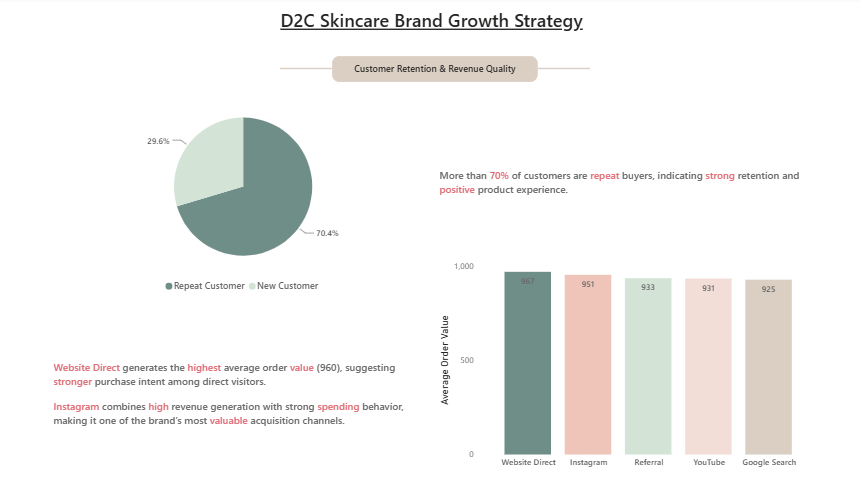

The page's visual inventory and layout, read from the dashboard file:
{"tool":"powerbi","page":{"name":"Customer Loyalty & Spending  ","canvas":[1280,720],"ordinal":2},"visuals":[{"type":"textbox","box":[408,10.2,463.9,51.2],"z":0},{"type":"textbox","box":[488.8,86.3,301.5,38],"z":1000},{"type":"shape","box":[412.7,52.7,76.1,103.9],"z":2000},{"type":"shape","box":[790.2,52.7,76.1,103.9],"z":3000},{"type":"textbox","box":[267.8,686.3,616.1,13.2],"z":4000},{"type":"pieChart","fields":{"Category":["1  Customers.Customer Type"],"Y":["CountNonNull(1  Customers.customer_id)"]},"box":[75.5,142.1,565.3,300.4],"z":5000},{"type":"columnChart","fields":{"Category":["1  Customers.acquisition_channel"],"Y":["1  Customers.Average Order Value"]},"box":[641,379,563.4,320.5],"z":6000},{"type":"textbox","box":[641,245.9,563.4,92.2],"z":7000},{"type":"textbox","box":[76.1,526.8,541.5,142],"z":8000}]}

Visuals, with their boxes in screenshot pixels (x1, y1, x2, y2), scaled from the page's 1280x720 canvas onto the 861x484 screenshot:
textbox: detection(274, 7, 586, 41)
textbox: detection(329, 58, 532, 84)
shape: detection(278, 35, 329, 105)
shape: detection(532, 35, 583, 105)
textbox: detection(180, 461, 595, 470)
pieChart - 1  Customers.Customer Type x CountNonNull(1  Customers.customer_id): detection(51, 96, 431, 297)
columnChart - 1  Customers.acquisition_channel x 1  Customers.Average Order Value: detection(431, 255, 810, 470)
textbox: detection(431, 165, 810, 227)
textbox: detection(51, 354, 415, 450)
